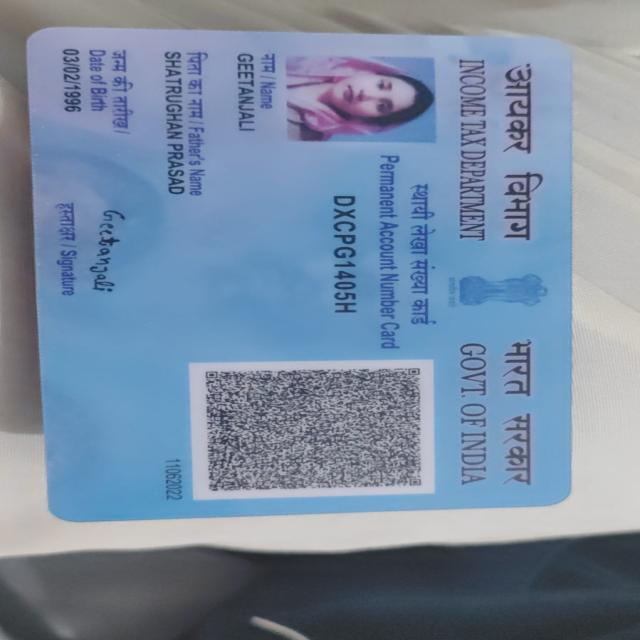pan_card: (27, 26, 573, 520)
